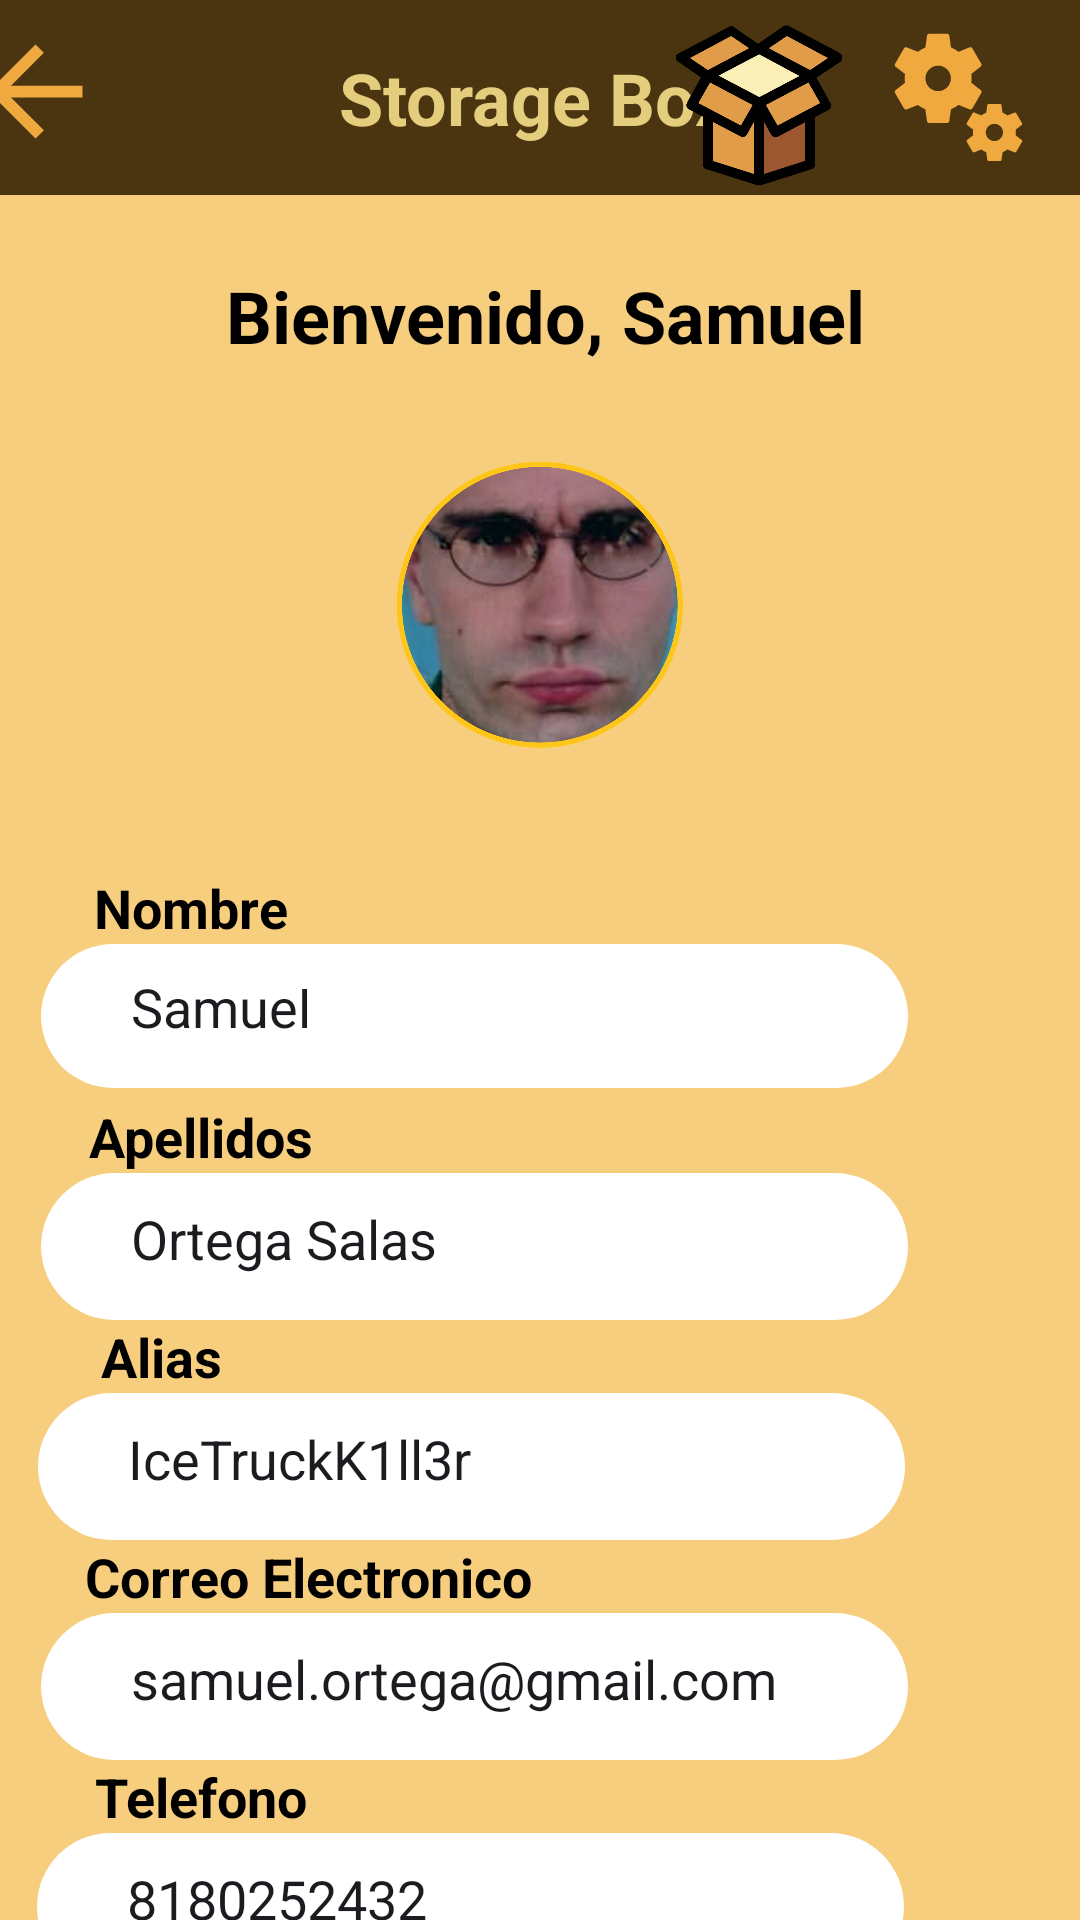

Locate icon controls on the screen. Image size 1080px x 1920px, boxes as (x1, y1, x2, y2).
foto perfil: (397, 462, 683, 748)
miscellaneous services: (894, 33, 1023, 161)
